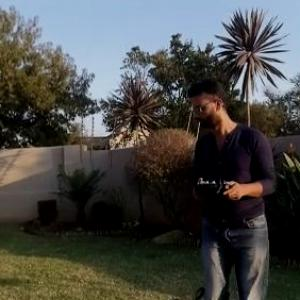follow: (185, 69, 280, 299)
